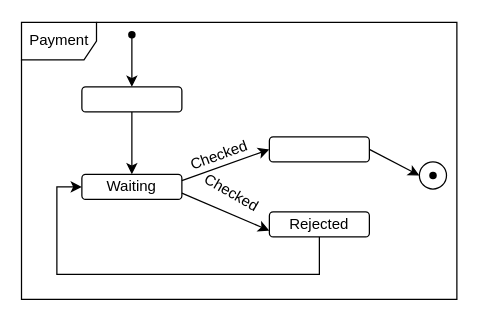
Image size: 480x321. Some labels were removed from this diagram. The shapes that lost their labels are listed below. From the top down, each one's centre as x and y in pixels, then its label:
At (x=131, y=99): "Pendding".
At (x=318, y=149): "Accepted".
